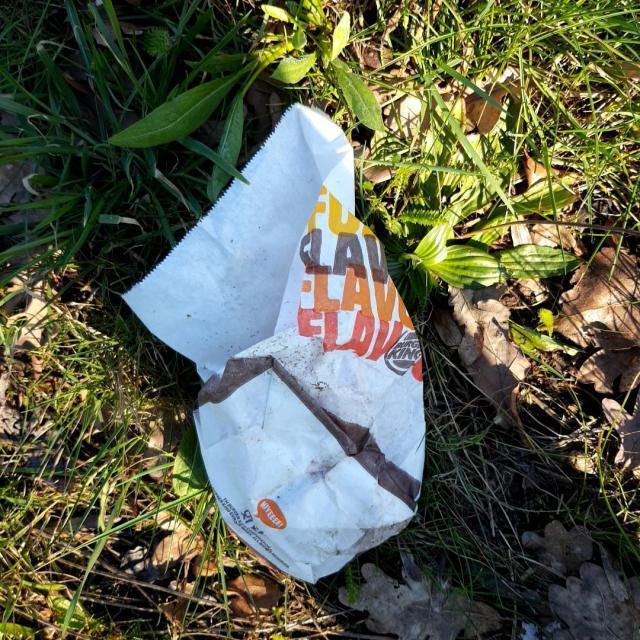Paper: (118, 102, 427, 586)
